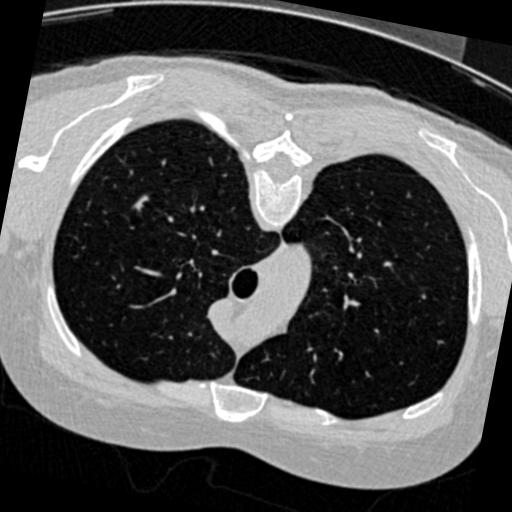nodule: (129, 191, 152, 214)
